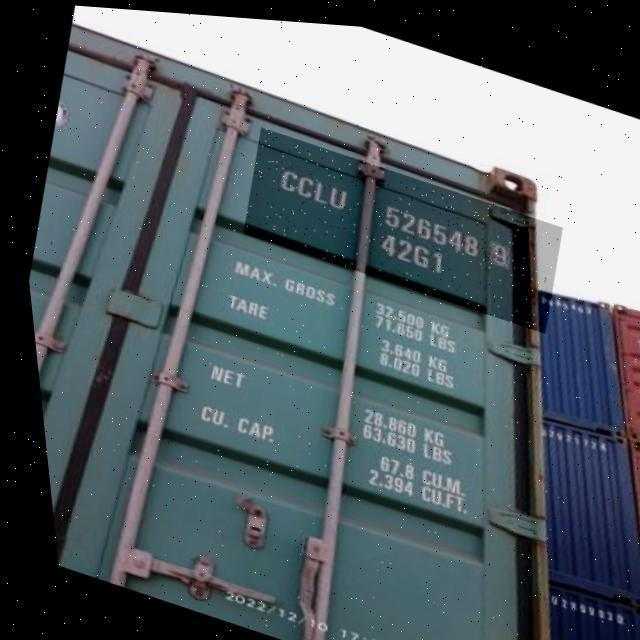container_number_h: (229, 121, 567, 327)
